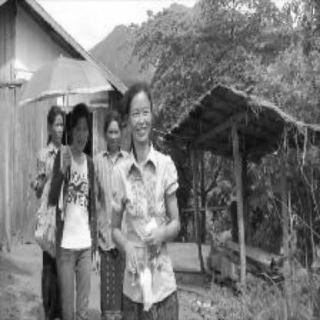other: (102, 244, 182, 314)
